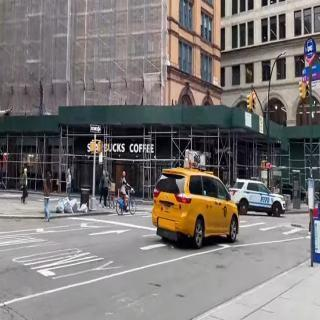Garbage: (63, 197, 73, 214), (56, 199, 65, 213), (71, 198, 79, 212), (79, 203, 89, 213)
